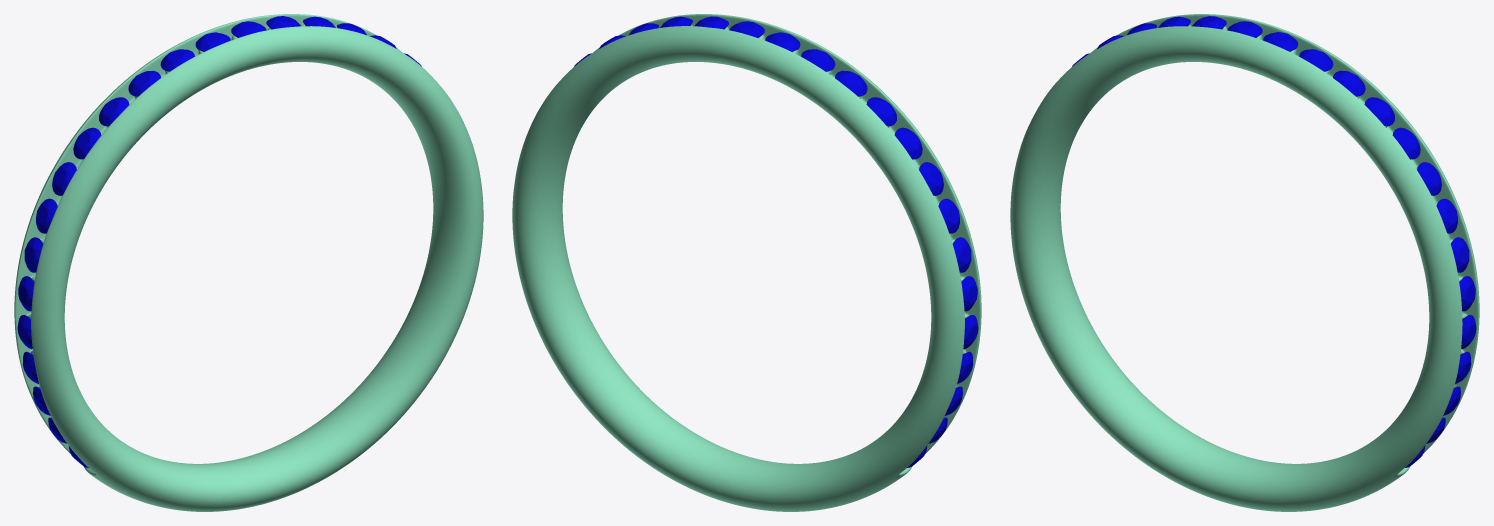
3 renders of one model, left to right at view 1: azimuth 30°, elevation 25°; view 2: azimuth 150°, elevation 25°; view 3: azimuth 330°, elevation 25°, orthographic.
Visible parts, largest first — view 1: Metal03, Diamond_Band.005, Diamond_Band.004, Diamond_Band.006, Diamond_Band.007; view 2: Metal03, Diamond_Band.005, Diamond_Band.006, Diamond_Band.004; view 3: Metal03, Diamond_Band.024, Diamond_Band.025, Diamond_Band.023.
Boxes of the visible parts, x1,y1,x2,y2 form: Metal03: [14, 14, 483, 511]; Diamond_Band.005: [73, 127, 101, 159]; Diamond_Band.004: [99, 97, 129, 126]; Diamond_Band.006: [52, 162, 76, 195]; Diamond_Band.007: [36, 198, 57, 233]; Metal03: [512, 14, 981, 511]; Diamond_Band.005: [894, 127, 922, 159]; Diamond_Band.006: [919, 162, 943, 195]; Diamond_Band.004: [866, 97, 896, 126]; Metal03: [1010, 14, 1479, 511]; Diamond_Band.024: [1392, 127, 1420, 159]; Diamond_Band.025: [1364, 97, 1394, 126]; Diamond_Band.023: [1417, 162, 1441, 195].
Size of the model in its own units: 20.71 by 20.8 by 2.48.
